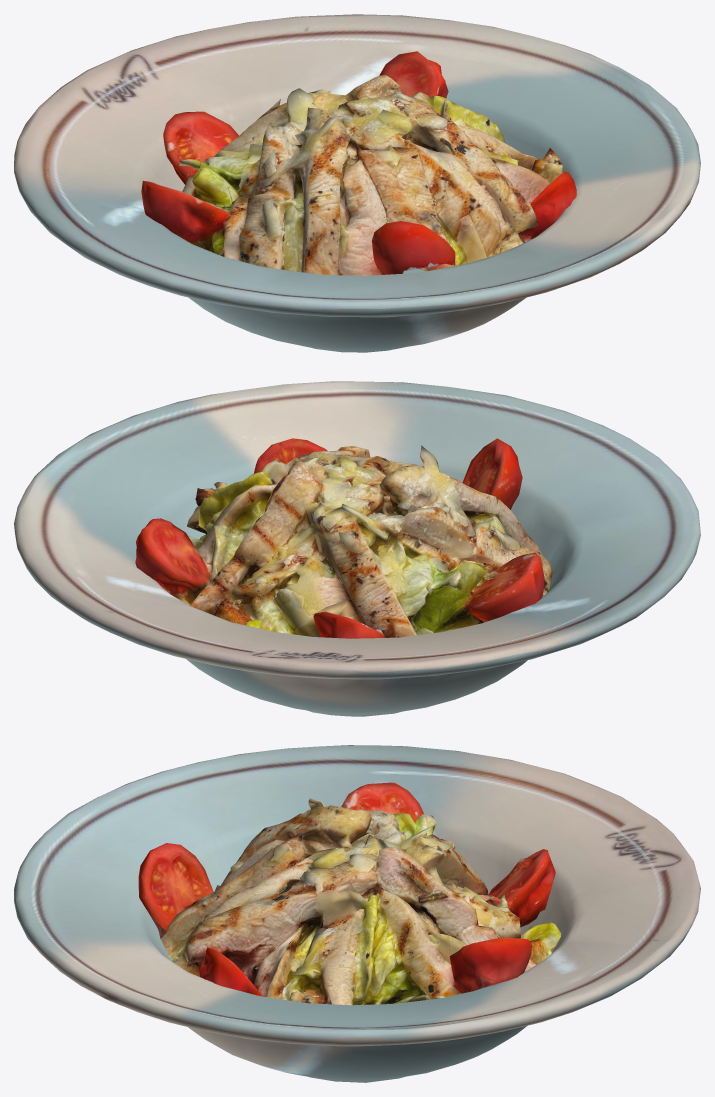
3 views of the same model, one above another, from view 1: azimuth 30°, elevation 25°; view 2: azimuth 150°, elevation 25°; view 3: azimuth 270°, elevation 25° (orthographic).
Visible parts, largest first — view 1: ovbject; view 2: ovbject; view 3: ovbject.
Boxes of the visible parts, left/top/right/bottom form: ovbject: left=14, top=14, right=700, bottom=352; ovbject: left=14, top=381, right=700, bottom=716; ovbject: left=14, top=745, right=700, bottom=1082.
Bounding box in the file's own units: 0.34 × 0.125 × 0.34.
Materials: 1 (1 with a texture image).
